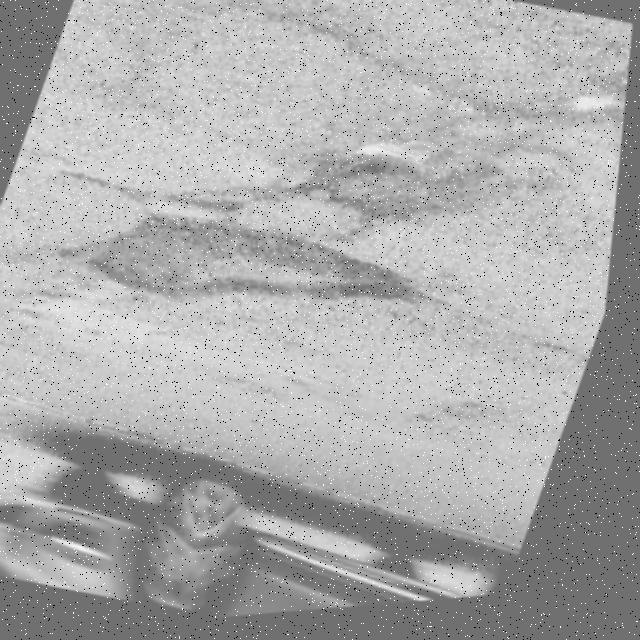pothole: (68, 150, 464, 387), (300, 117, 490, 249), (0, 290, 7, 363)
